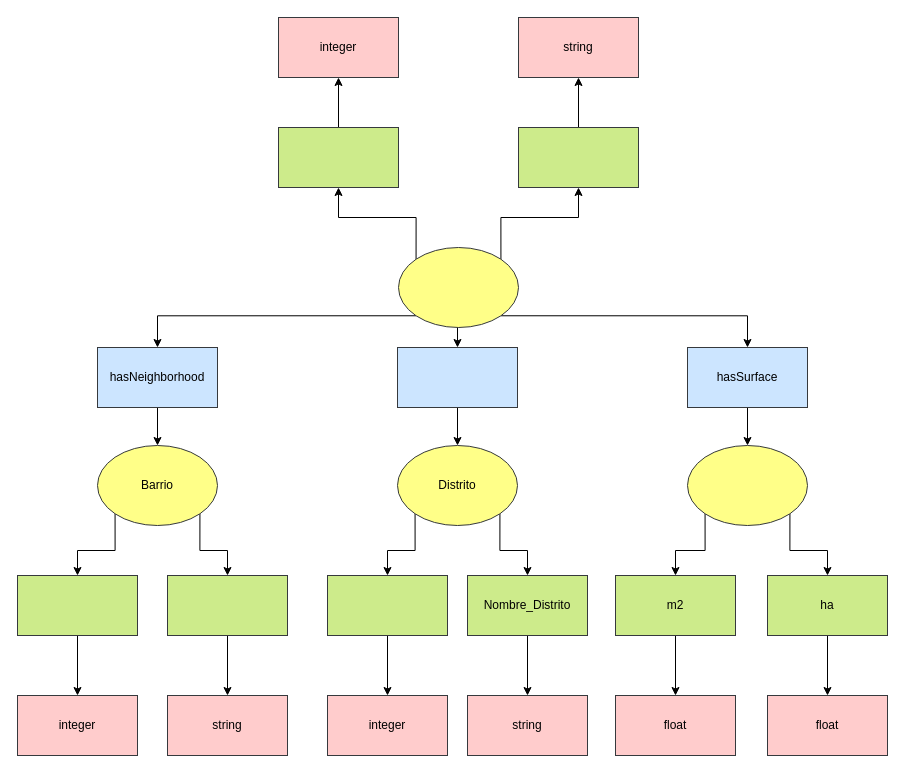
Some shapes in this 905 by 773 pixel diagram are drawn without their labels. The shapes that lost their labels are listed below. From the top down, each one's centre as x and y in pixels, then its label:
pixel 338 157: ID_ZonaVerde
pixel 578 157: Nombre_ZonaVerde
pixel 458 287: Zona Verde
pixel 457 377: hasDistrict
pixel 747 485: Superficie
pixel 77 605: ID_Barrio
pixel 227 605: Nombre_Barrio
pixel 387 605: ID_Distrito
